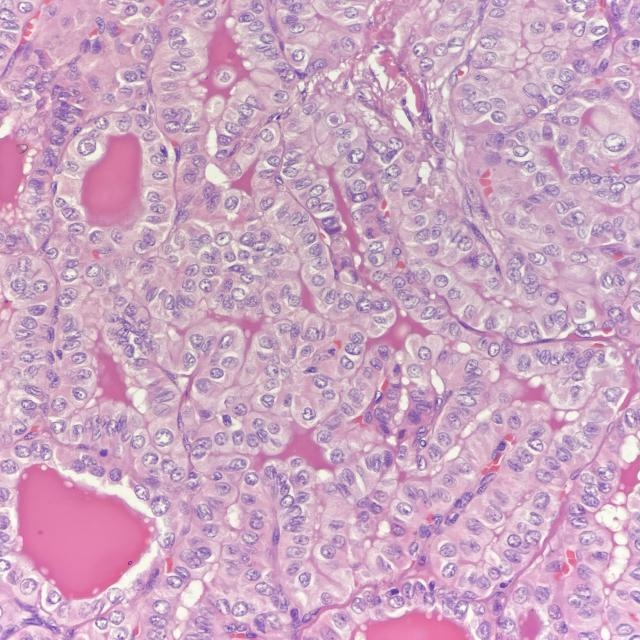TC: (314, 280, 343, 308), (410, 338, 439, 366), (428, 266, 456, 294), (187, 378, 222, 400), (227, 391, 254, 419), (221, 188, 247, 217), (302, 253, 333, 277), (254, 389, 283, 414), (363, 250, 397, 270), (295, 398, 317, 428), (57, 262, 87, 284), (227, 279, 251, 306), (213, 225, 236, 253), (300, 321, 328, 343), (336, 353, 368, 372), (310, 371, 333, 397), (217, 351, 245, 372), (176, 350, 204, 371), (234, 229, 263, 249), (262, 297, 286, 321), (62, 220, 90, 240), (457, 230, 480, 254), (141, 186, 171, 204), (144, 404, 175, 421), (342, 326, 369, 345), (188, 327, 211, 349), (256, 330, 277, 353), (161, 291, 178, 314), (334, 401, 358, 417), (285, 209, 304, 229), (420, 303, 436, 324), (370, 354, 384, 373)
